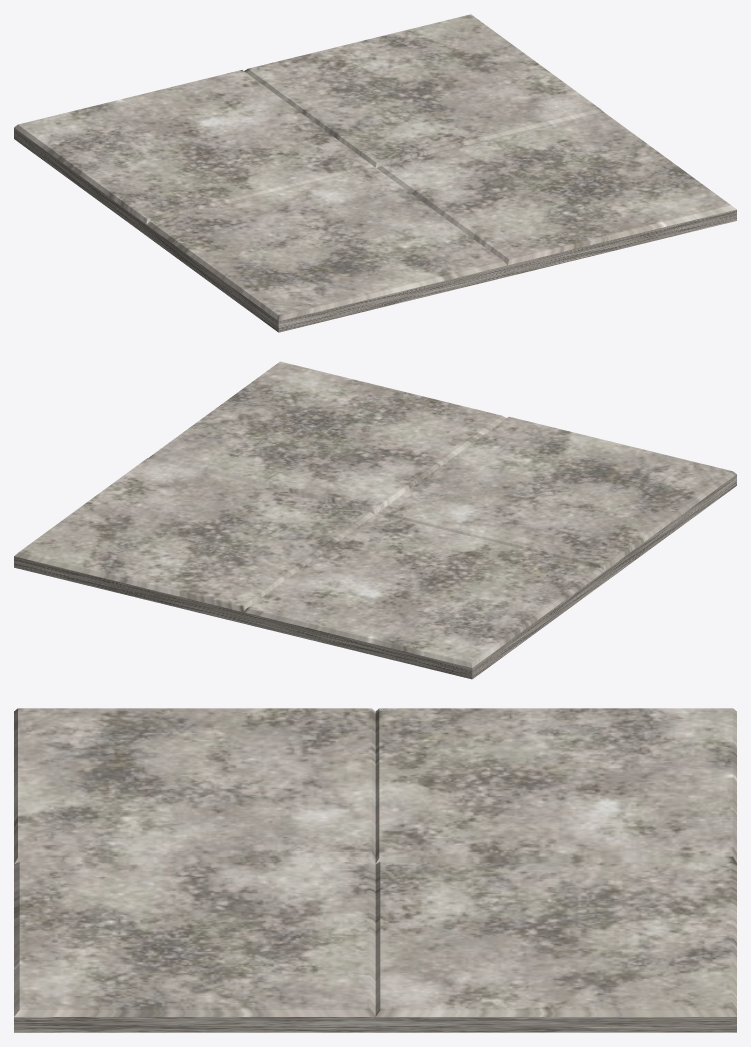
Rendered from suelo.glb.
3 renders of one model, top to bottom at view 1: azimuth 30°, elevation 25°; view 2: azimuth 150°, elevation 25°; view 3: azimuth 270°, elevation 25°, orthographic. The views are drawn at different scales.
Parts seen in each view (by area): view 1: g; view 2: g; view 3: g.
Boxes of the visible parts, x1,y1,x2,y2 form: g: (14, 14, 736, 332); g: (14, 361, 736, 679); g: (14, 708, 736, 1032).
Size of the model in its own units: 2 by 0.0621 by 2.
1 material, 1 textured.
